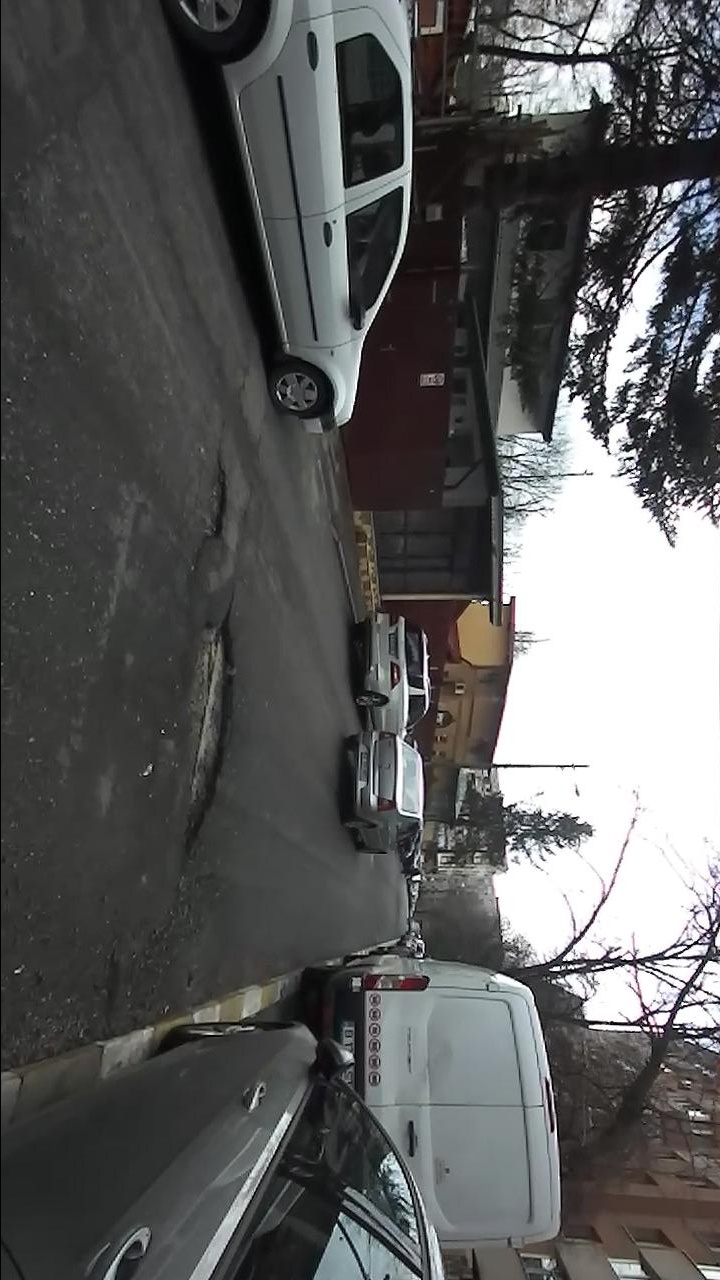pothole: (169, 605, 240, 873), (192, 451, 231, 559)
